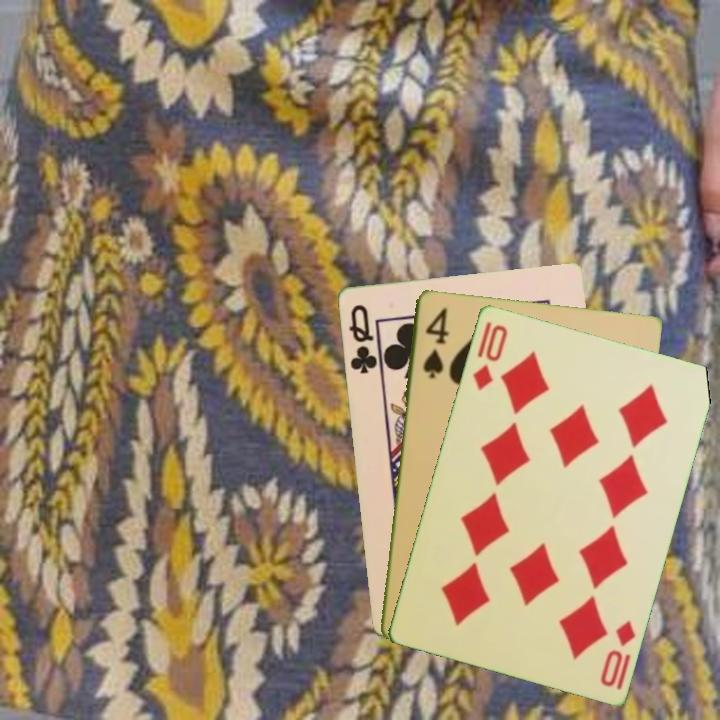10d: (596, 616, 639, 693), (469, 320, 510, 392)
4s: (419, 304, 450, 381)
Qc: (345, 300, 380, 377)
